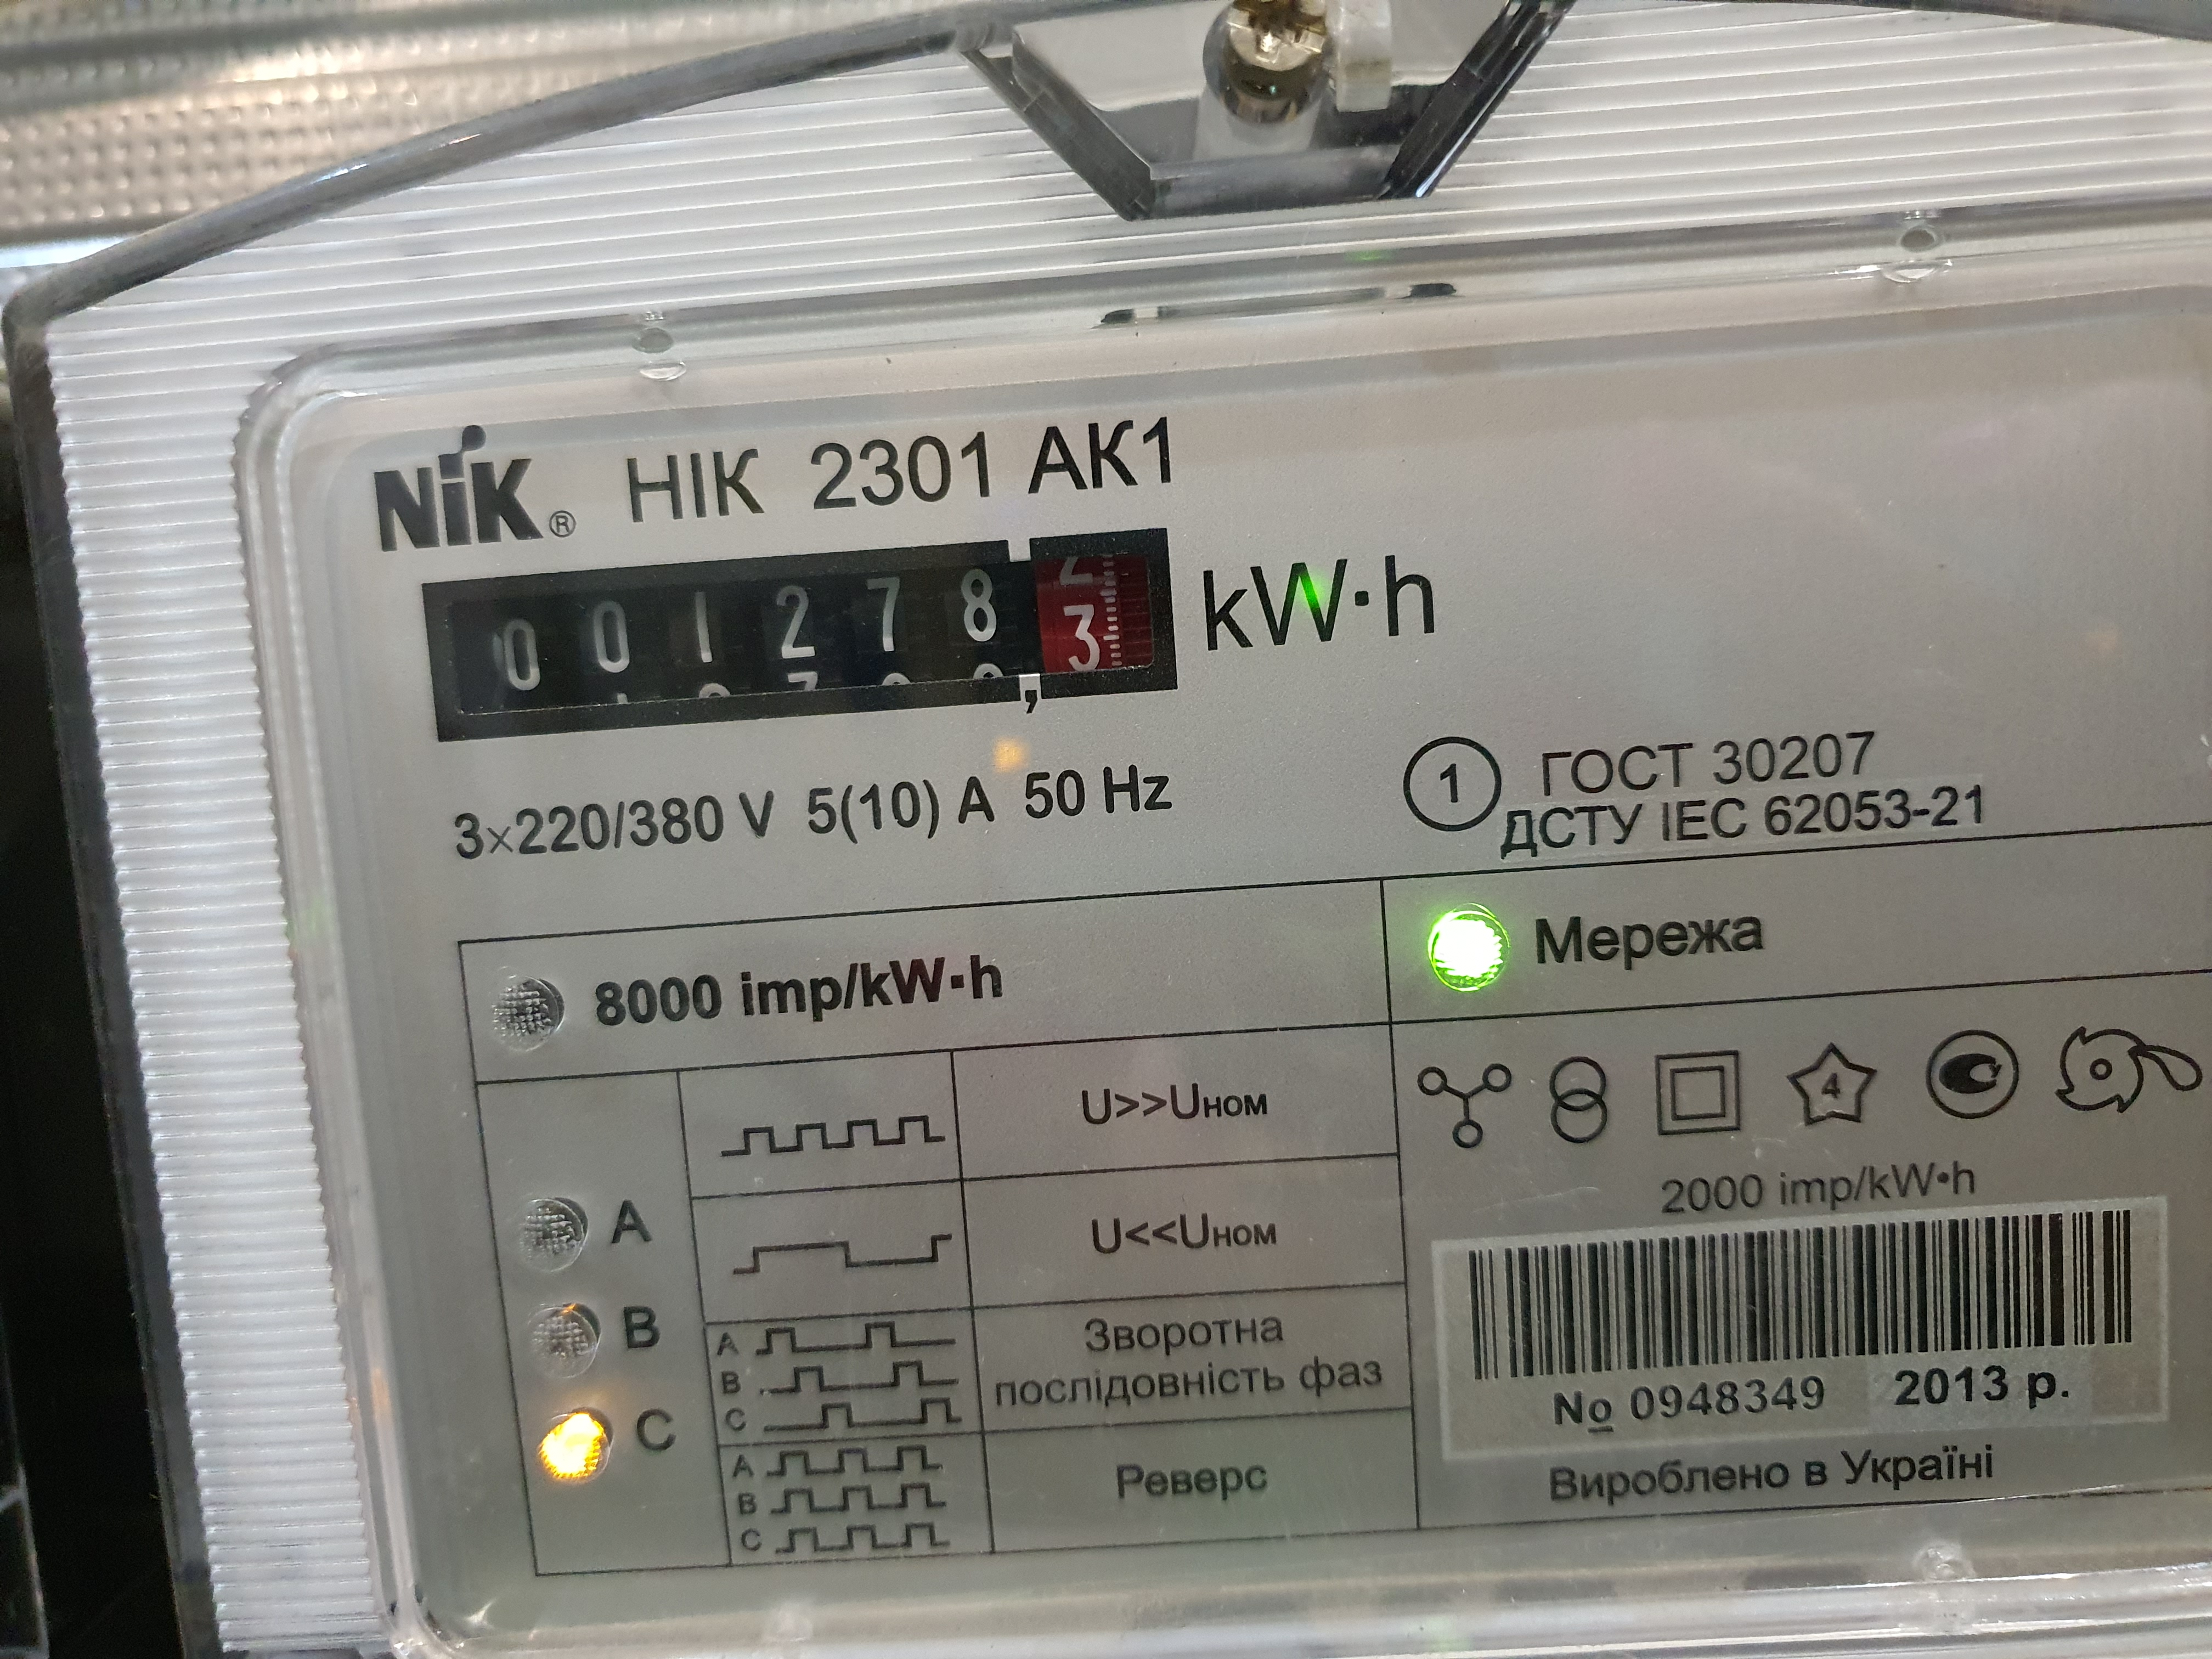0: (500, 612, 545, 695), (589, 598, 632, 678)
1: (688, 586, 719, 666)
2: (773, 582, 819, 664), (1055, 554, 1097, 587)
3: (1059, 599, 1104, 676)
7: (864, 573, 902, 655)
8: (960, 568, 1001, 643)
screen: (399, 507, 1209, 763)
